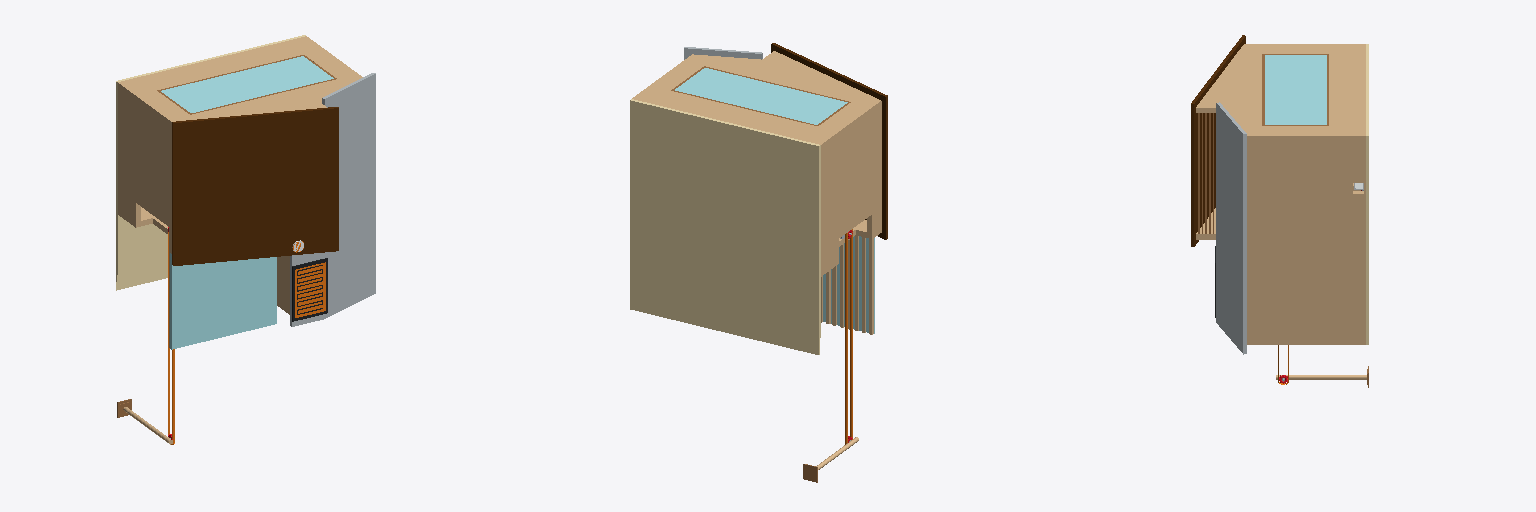
Rendered from tinker.obj.
3 views of the same model, side by side, from view 1: azimuth 30°, elevation 25°; view 2: azimuth 150°, elevation 25°; view 3: azimuth 270°, elevation 25° (orthographic).
Parts seen in each view (by area): view 1: obj_0; view 2: obj_0; view 3: obj_0.
Boxes of the visible parts, box(x1,y1,x2,y2) form: obj_0: box(116, 35, 375, 444); obj_0: box(630, 43, 887, 482); obj_0: box(1191, 35, 1368, 387).
Bounding box in the file's own units: 193 × 311 × 147.